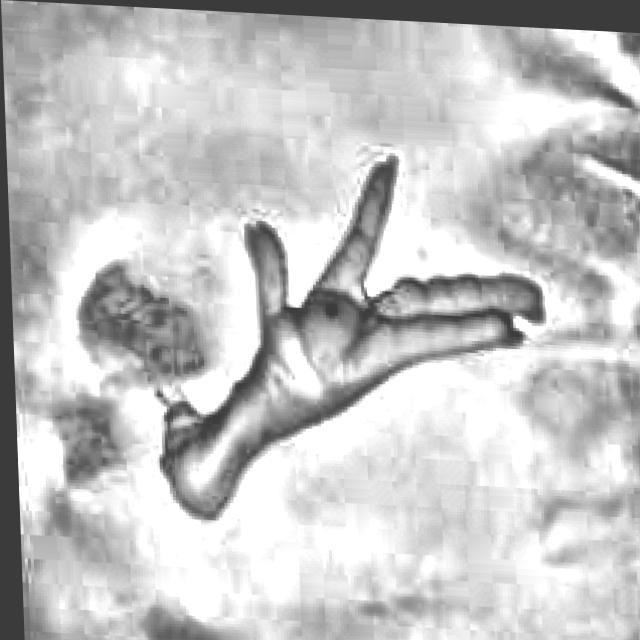Bumble foot: (143, 144, 552, 538)
